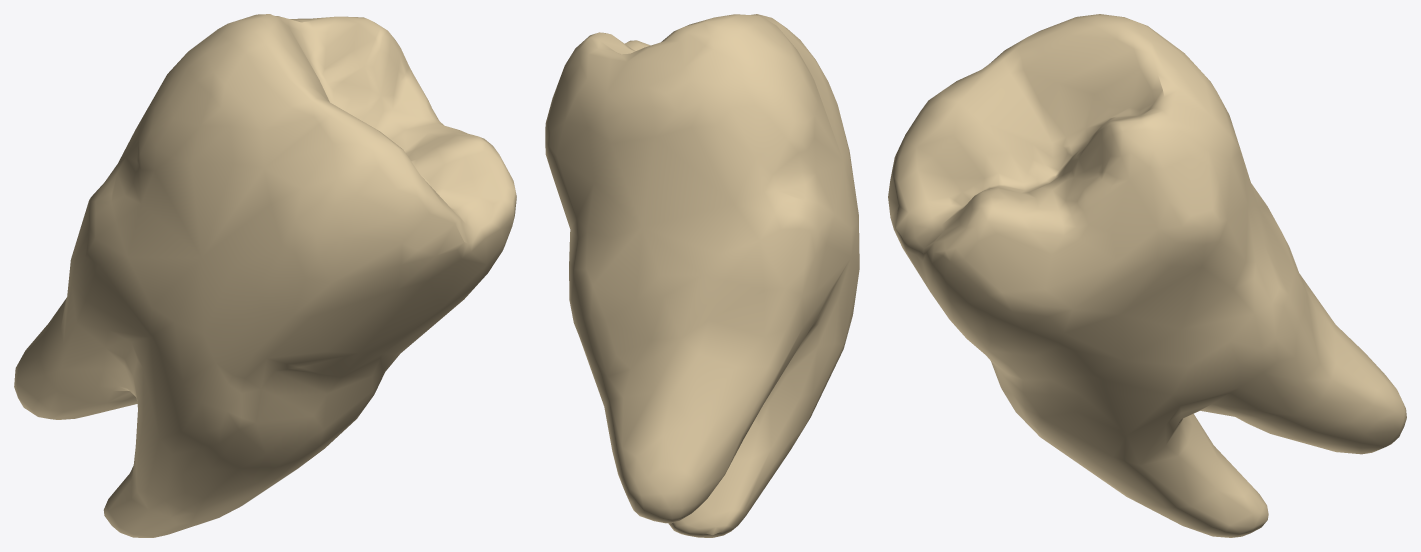
The model's file is tooth-47.glb.
The picture shows the model from 3 angles, left to right: view 1: azimuth 30°, elevation 25°; view 2: azimuth 150°, elevation 25°; view 3: azimuth 270°, elevation 25°; orthographic projection. The views are drawn at different scales.
Parts seen in each view (by area): view 1: tooth-47; view 2: tooth-47; view 3: tooth-47.
Part boxes in pixels (<box>): tooth-47: <box>14,14,516,537</box>; tooth-47: <box>545,14,859,537</box>; tooth-47: <box>888,14,1406,537</box>.
Bounding box in the file's own units: 0.3018 × 0.467 × 0.413.
